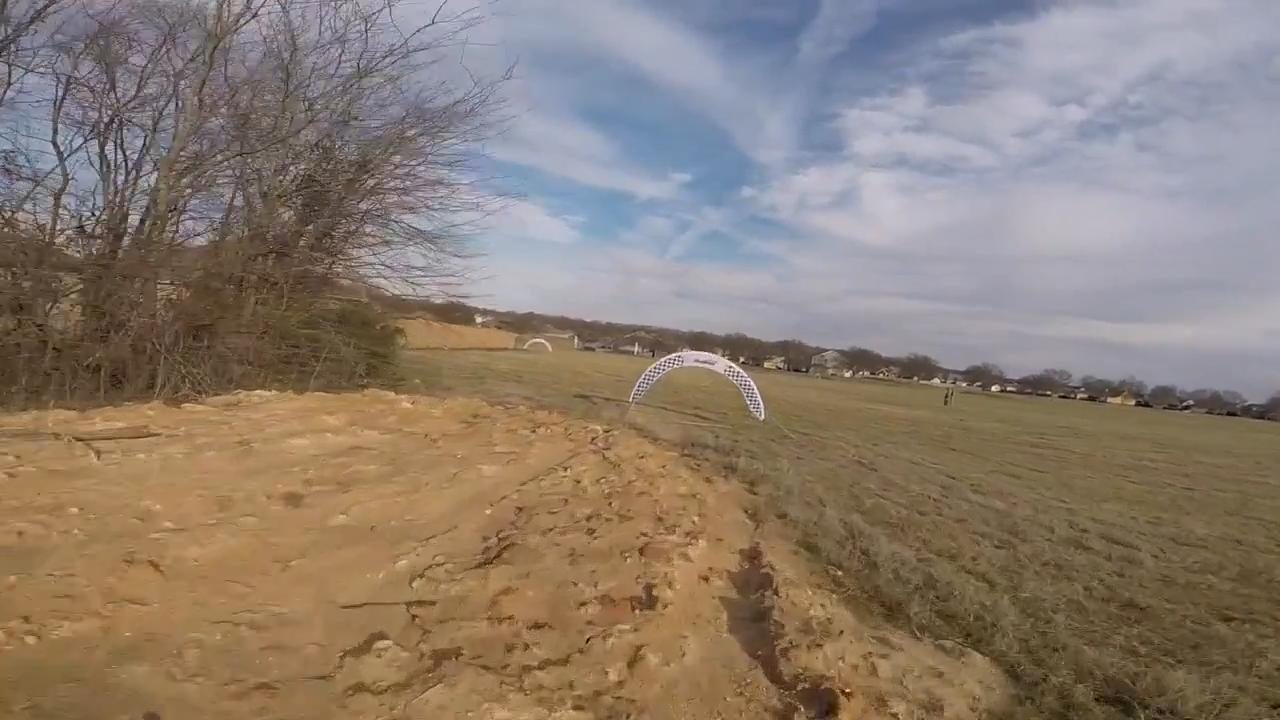gate: (630, 350, 766, 425)
